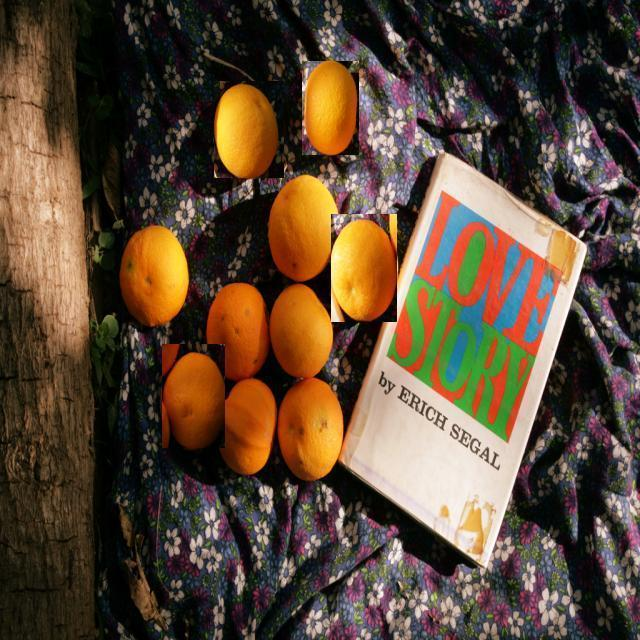Orange: (267, 171, 343, 285), (274, 374, 344, 482), (117, 219, 189, 323), (331, 214, 397, 322), (214, 81, 284, 178), (162, 344, 225, 448), (206, 276, 270, 378), (302, 61, 359, 155), (272, 288, 334, 374), (218, 377, 273, 472)
